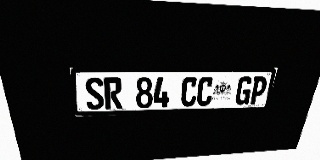4: (153, 77, 170, 108)
8: (136, 77, 153, 108)
C: (180, 77, 198, 107), (196, 77, 214, 106)
G: (234, 76, 254, 105)
P: (248, 76, 268, 105)
R: (103, 77, 122, 109)
S: (84, 77, 105, 110)
